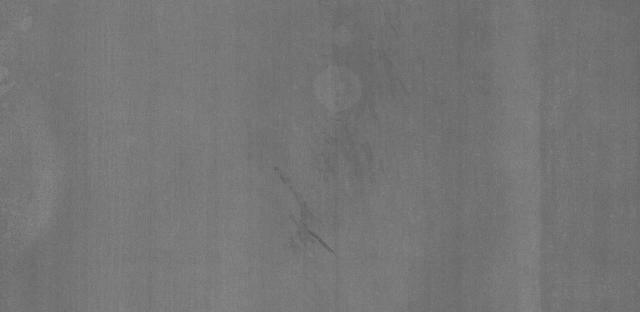water_spot: (266, 149, 339, 275)
